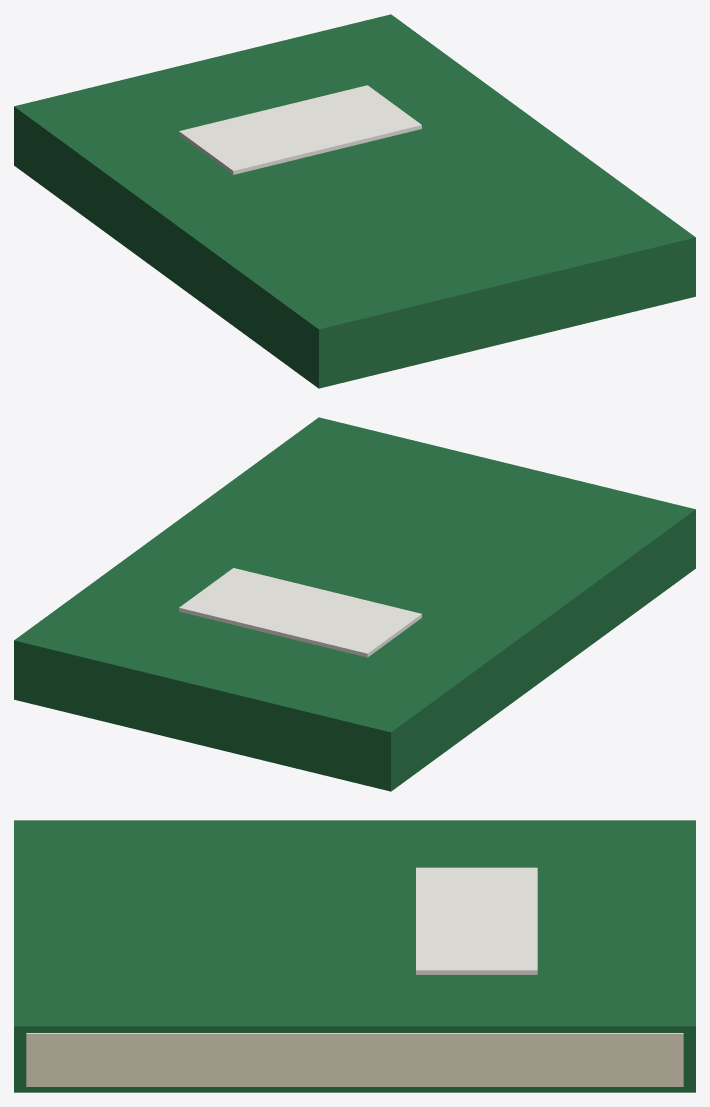
File: billing_book.glb
3 views of the same model, one above another, from view 1: azimuth 30°, elevation 25°; view 2: azimuth 150°, elevation 25°; view 3: azimuth 270°, elevation 25° (orthographic). The views are drawn at different scales.
Visible parts, largest first — view 1: cover_book_green, label_white; view 2: cover_book_green, label_white; view 3: cover_book_green, pages_page_cream, label_white.
Boxes of the visible parts, <box> form: cover_book_green: <box>14,14,695,388</box>; label_white: <box>179,85,421,174</box>; cover_book_green: <box>14,417,695,791</box>; label_white: <box>179,568,421,657</box>; cover_book_green: <box>14,820,695,1092</box>; pages_page_cream: <box>26,1033,683,1086</box>; label_white: <box>416,867,537,974</box>.
Size of the model in its own units: 0.201 by 0.032 by 0.28.
